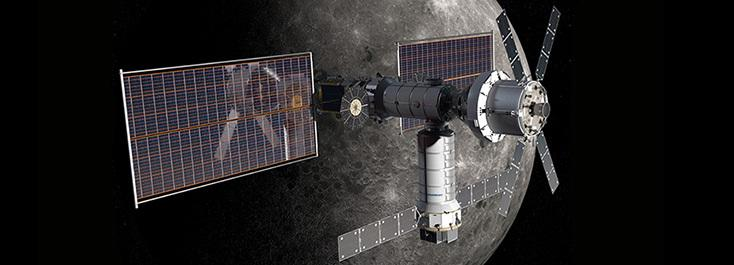antenna: (340, 85, 371, 129)
body: (451, 70, 549, 143), (416, 125, 463, 245), (316, 73, 397, 122), (381, 76, 459, 123)
solar: (118, 51, 319, 209), (393, 30, 496, 136), (337, 204, 418, 263), (453, 167, 513, 212), (496, 138, 526, 219), (495, 9, 525, 86), (535, 5, 562, 80), (534, 130, 561, 194), (214, 108, 241, 162), (255, 114, 282, 149)
thruster: (530, 101, 552, 119)
